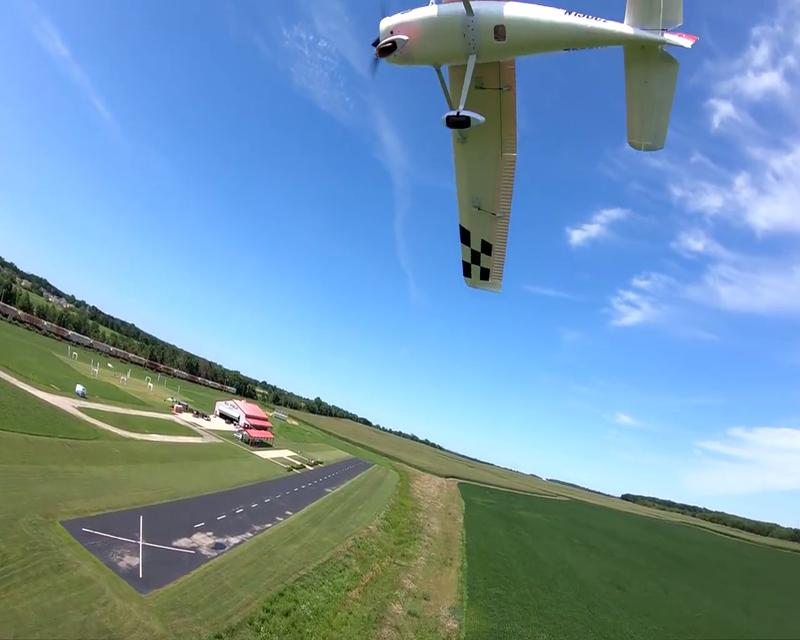UAV: (373, 1, 699, 293)
